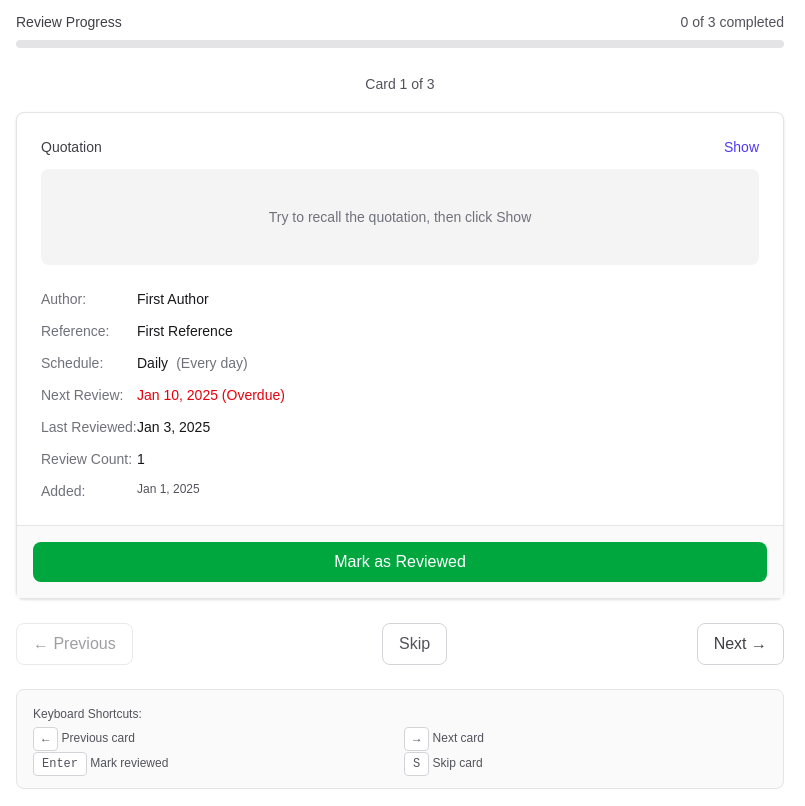
Test: ReviewSession › card navigation › should disable Next button on last card
Navigate to last card
Step 1. Click the button "Next →" → coordinates (740, 644), box [697, 623, 784, 665]
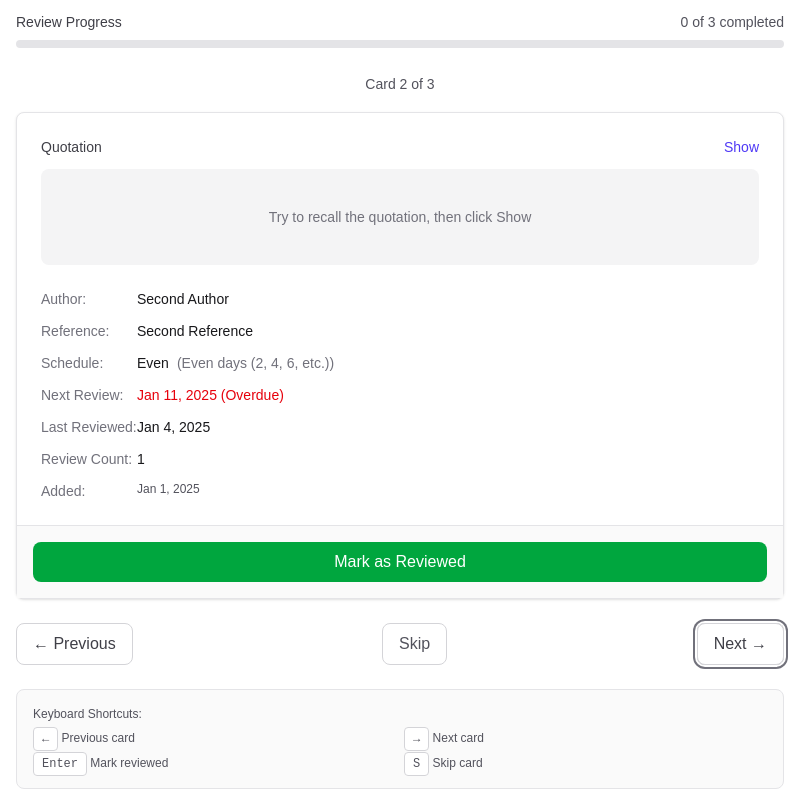
Step 2. Click the button "Next →" → coordinates (740, 644), box [697, 623, 784, 665]
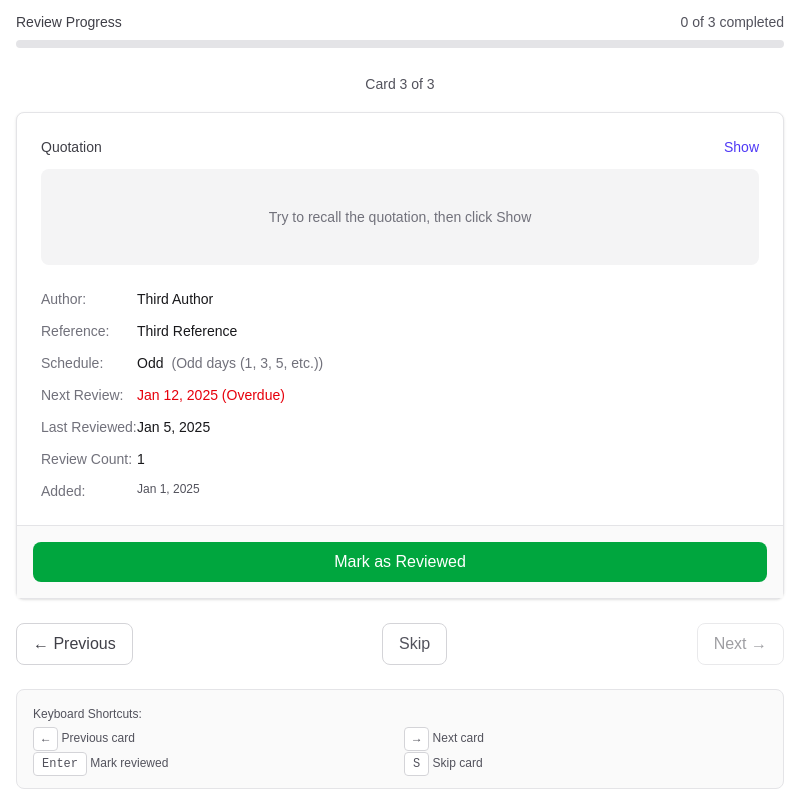
Expected: the button "Next →" is disabled, [697, 623, 784, 665]
